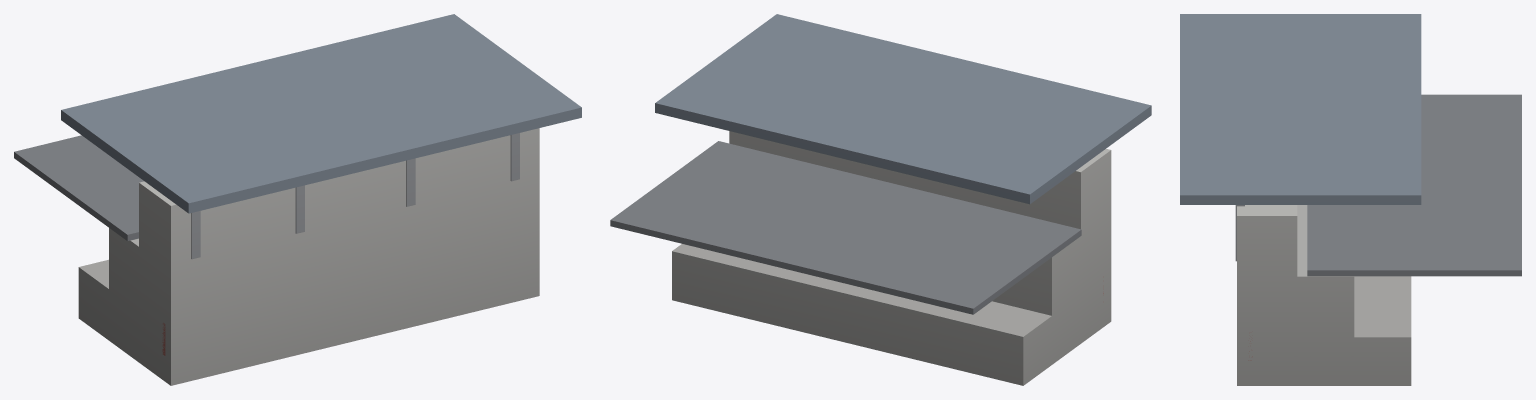
The model's file is grandstand.glb.
3 views of the same model, side by side, from view 1: azimuth 30°, elevation 25°; view 2: azimuth 150°, elevation 25°; view 3: azimuth 270°, elevation 25° (orthographic). The views are drawn at different scales.
Visible parts, largest first — view 1: root; view 2: root; view 3: root.
Boxes of the visible parts, x1,y1,x2,y2 form: root: [14, 14, 581, 385]; root: [610, 14, 1151, 385]; root: [1180, 14, 1521, 385].
Size of the model in its own units: 6.4 by 3.23 by 5.1.
